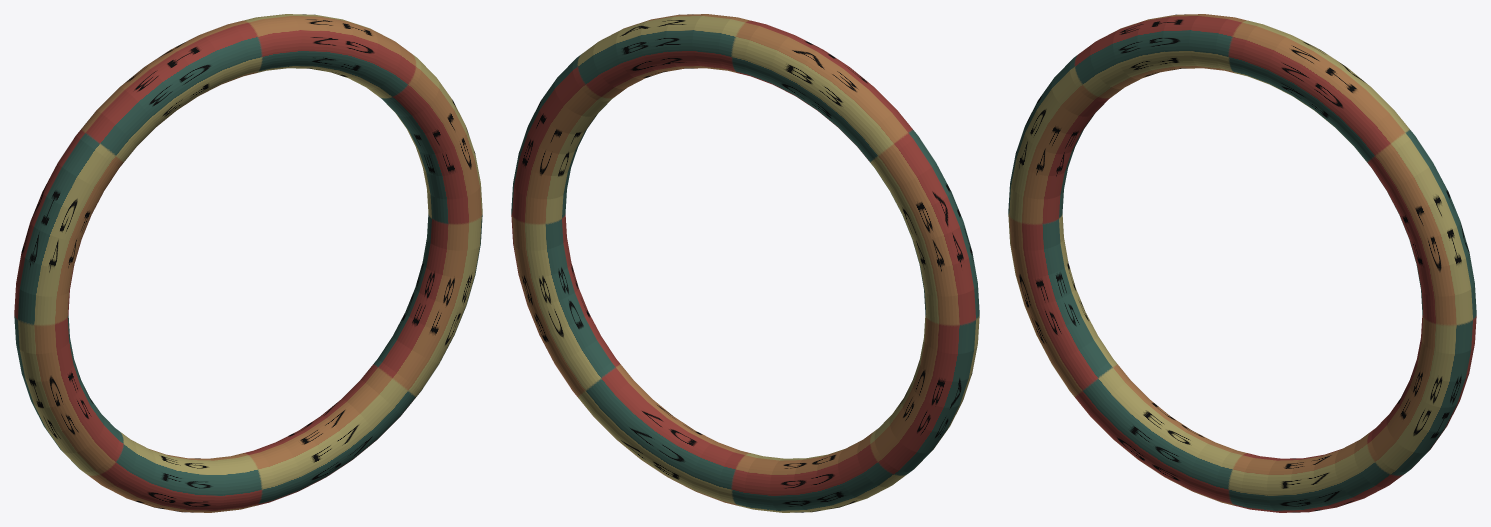
File: texture_torus_R29_r5.glb
3 views of the same model, side by side, from view 1: azimuth 30°, elevation 25°; view 2: azimuth 150°, elevation 25°; view 3: azimuth 330°, elevation 25° (orthographic).
Visible parts, largest first — view 1: world; view 2: world; view 3: world.
Boxes of the visible parts, x1,y1,x2,y2 form: world: (14,14,482,512); world: (511,14,979,512); world: (1008,14,1476,512).
Bounding box in the file's own units: 32.67 × 32.6 × 3.33.
1 material, 1 textured.
